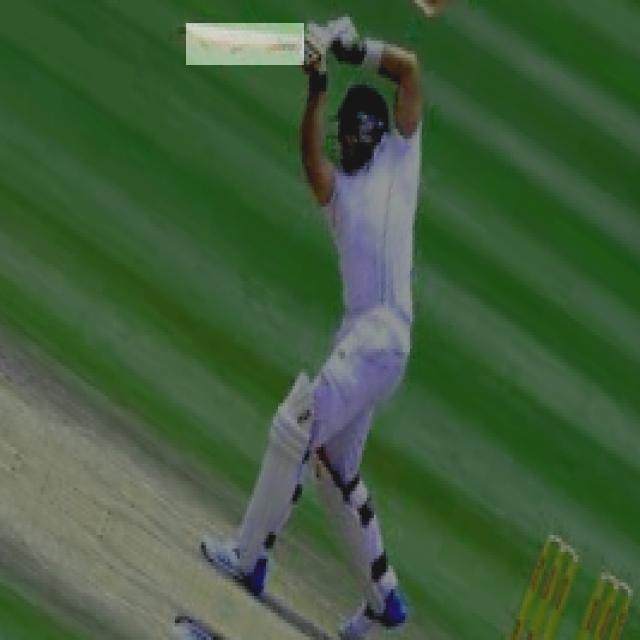bat: (185, 19, 306, 66)
